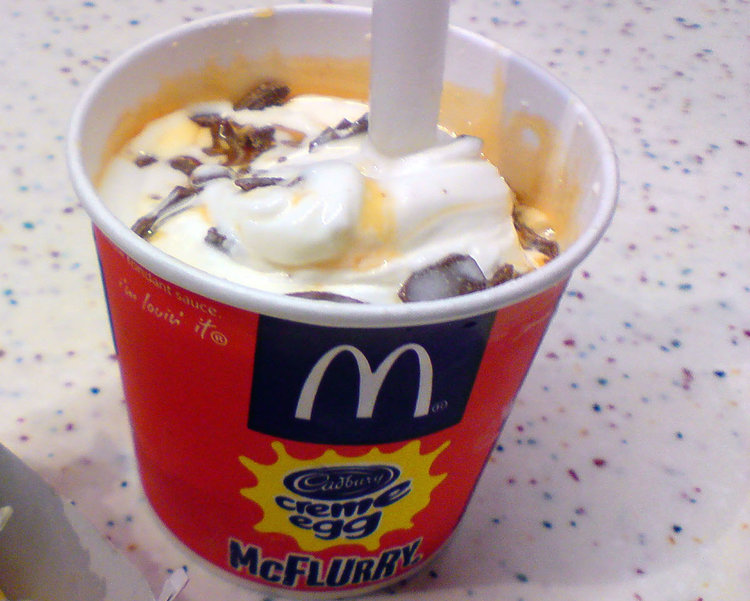mcdonalds: (287, 341, 438, 425)
